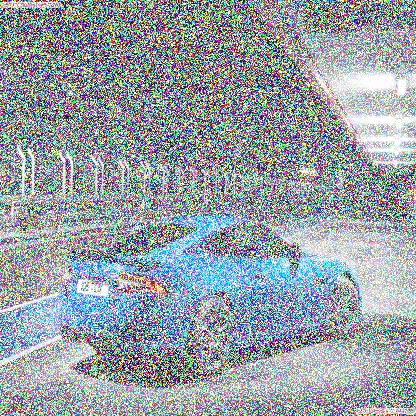Vehicle: (42, 200, 386, 397)
